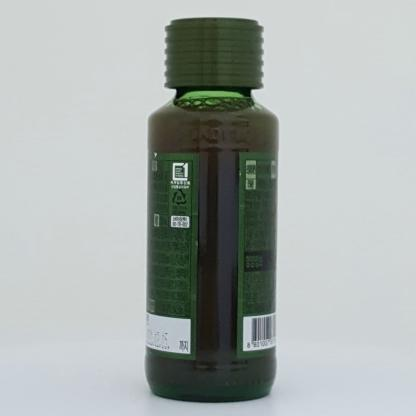CJ-----100ML: (144, 17, 279, 402)
